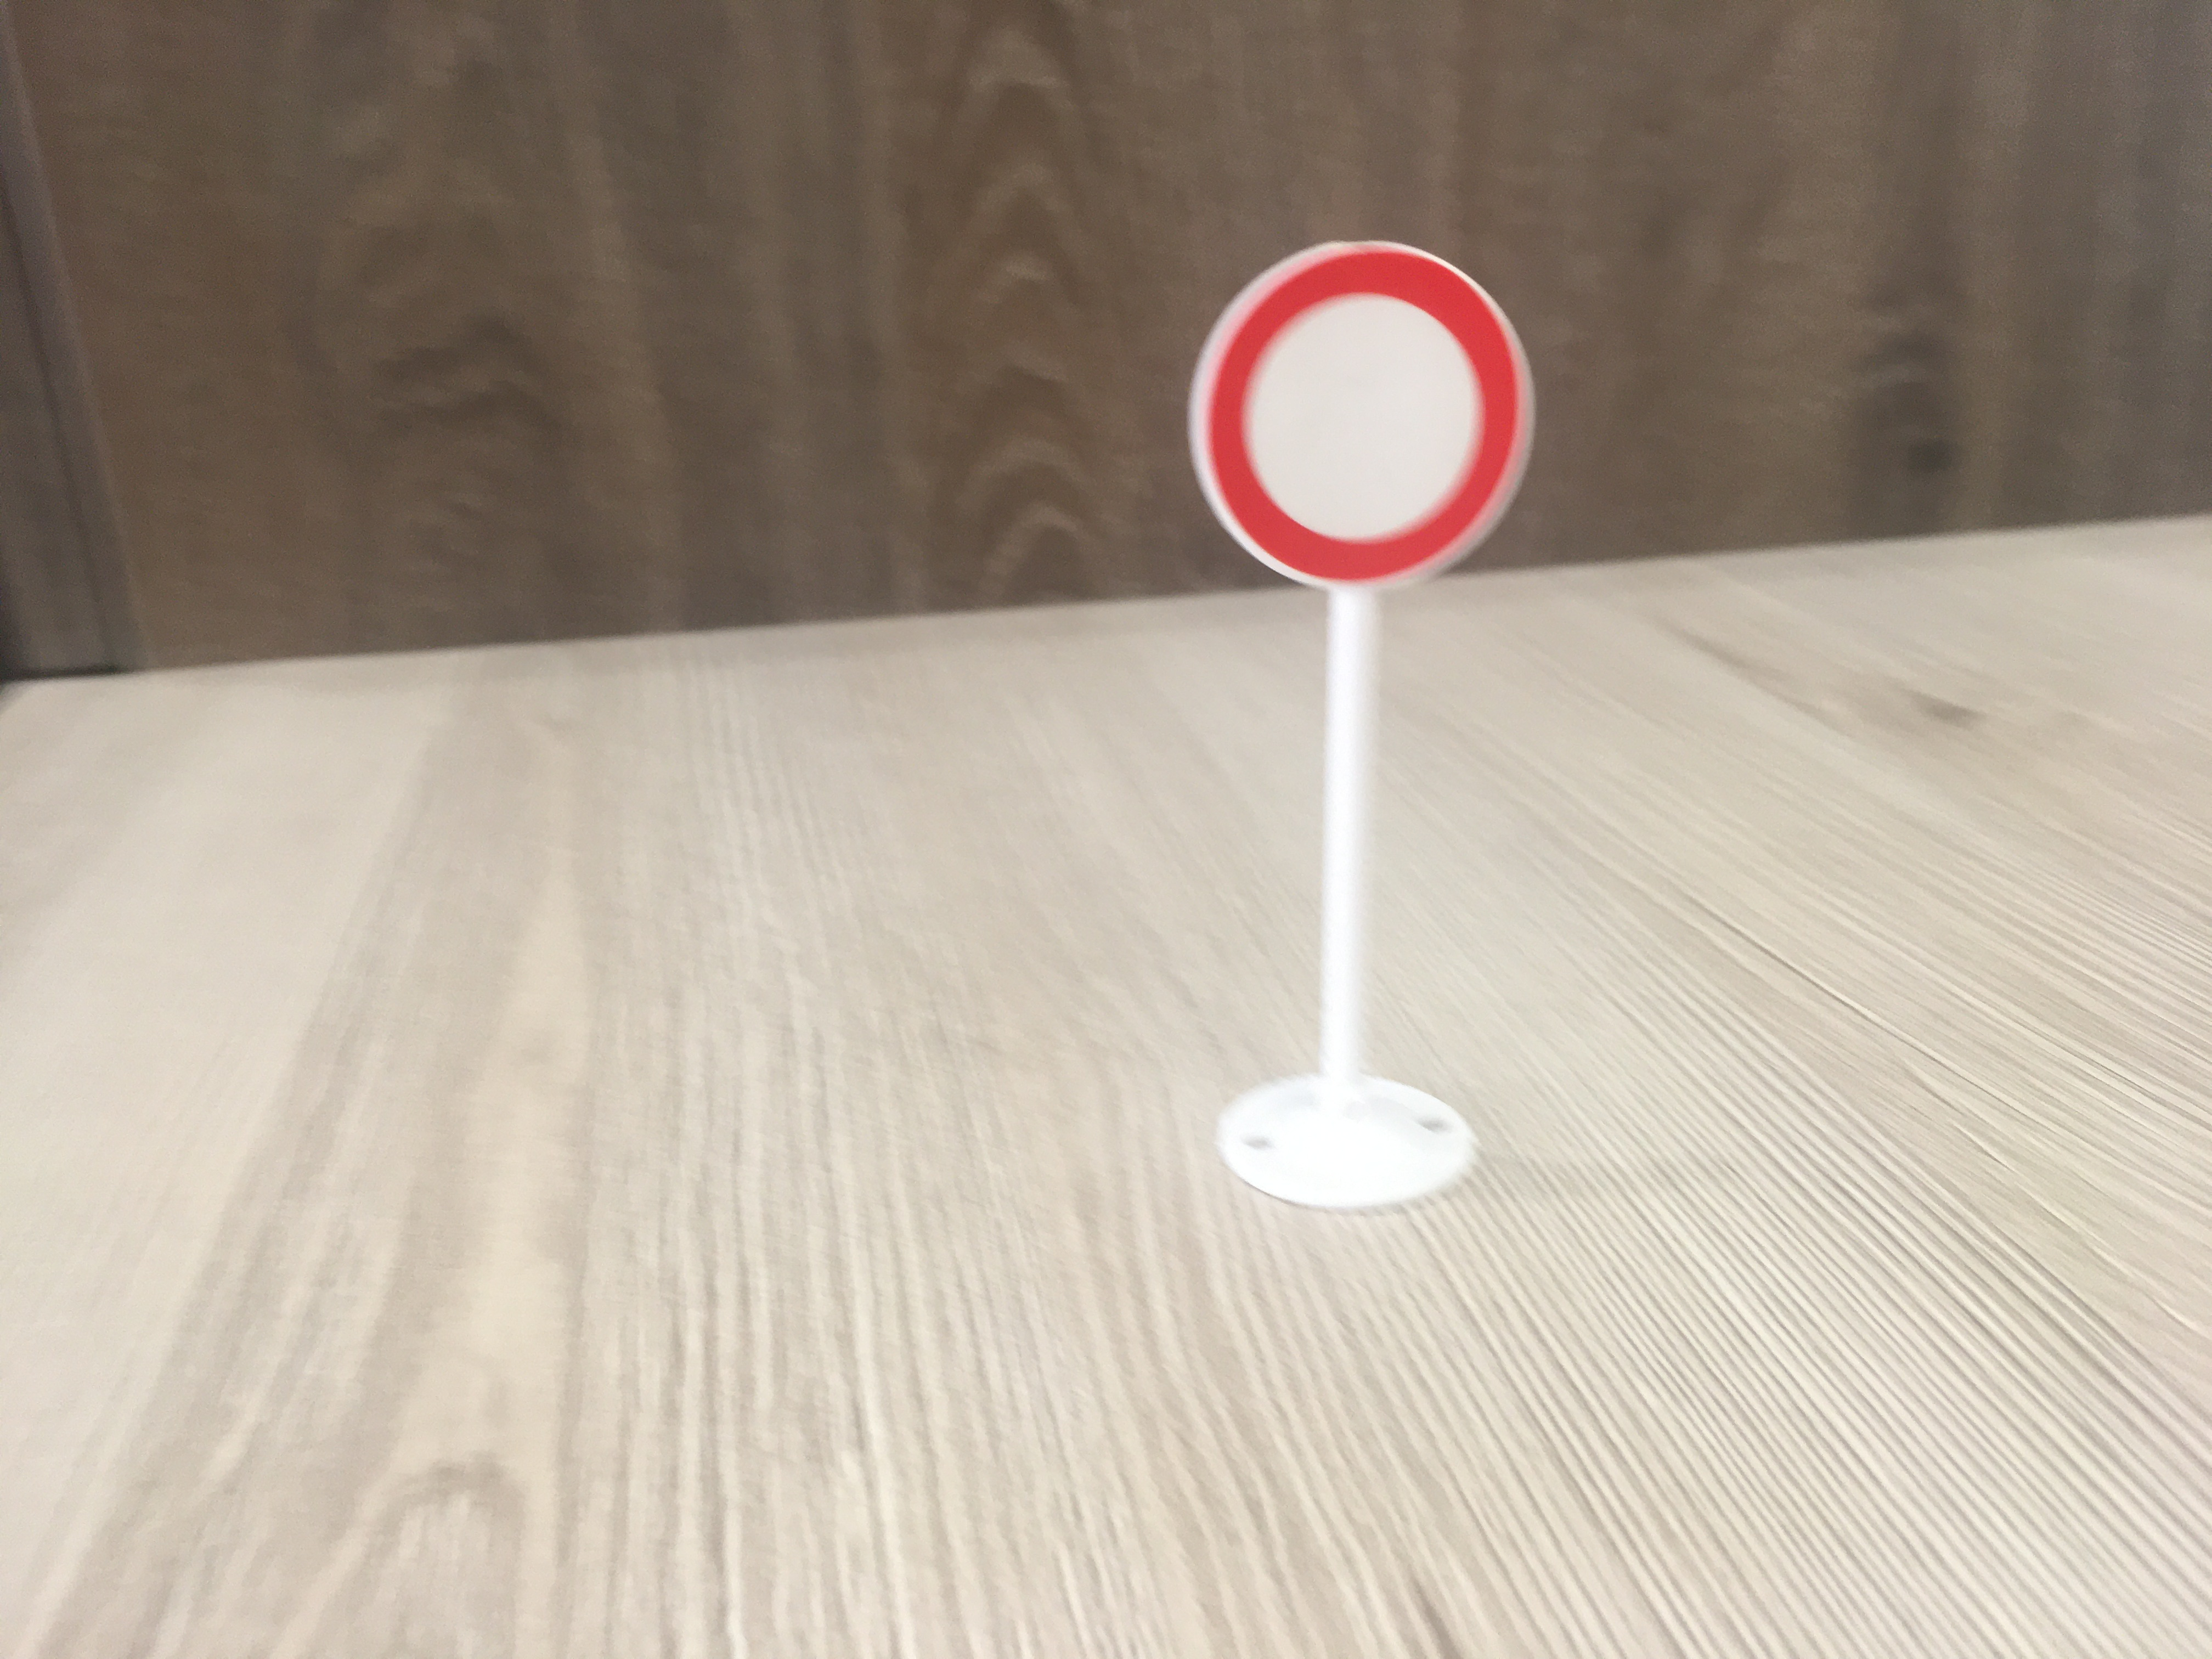noDrive: (1188, 244, 1524, 589)
